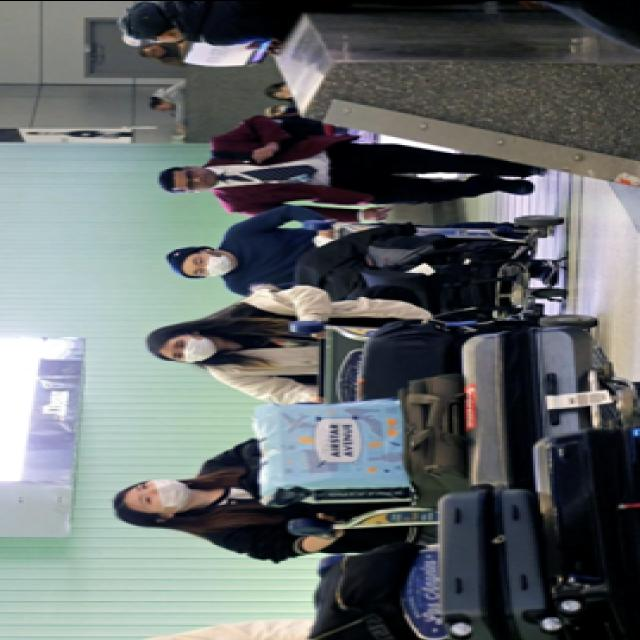with_mask: (128, 478, 188, 514), (166, 334, 212, 364), (186, 253, 230, 277)
without_mask: (176, 168, 212, 190), (142, 44, 164, 58)
